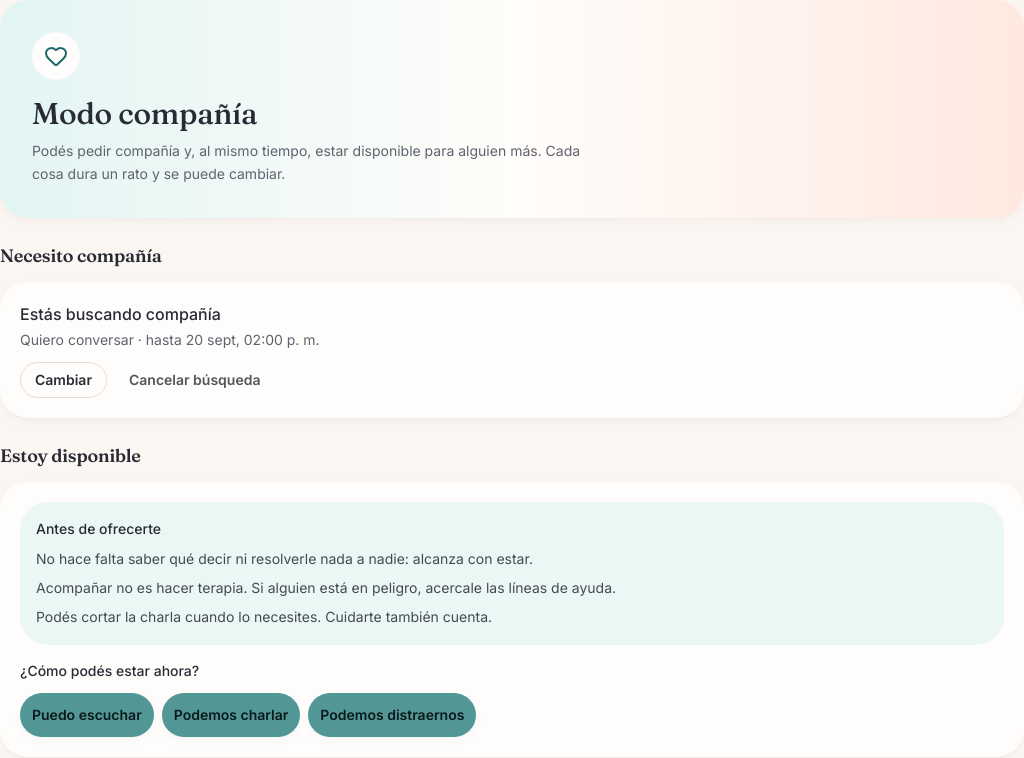
it: CompanionModePage › sets and cancels an offering without clearing a need
The image size is (1024, 758).
Expected: the text "Estás buscando compañía" is shown, [20, 304, 221, 324]
Step 1. Click the button "Podemos distraernos" → (392, 714), box [308, 692, 476, 736]
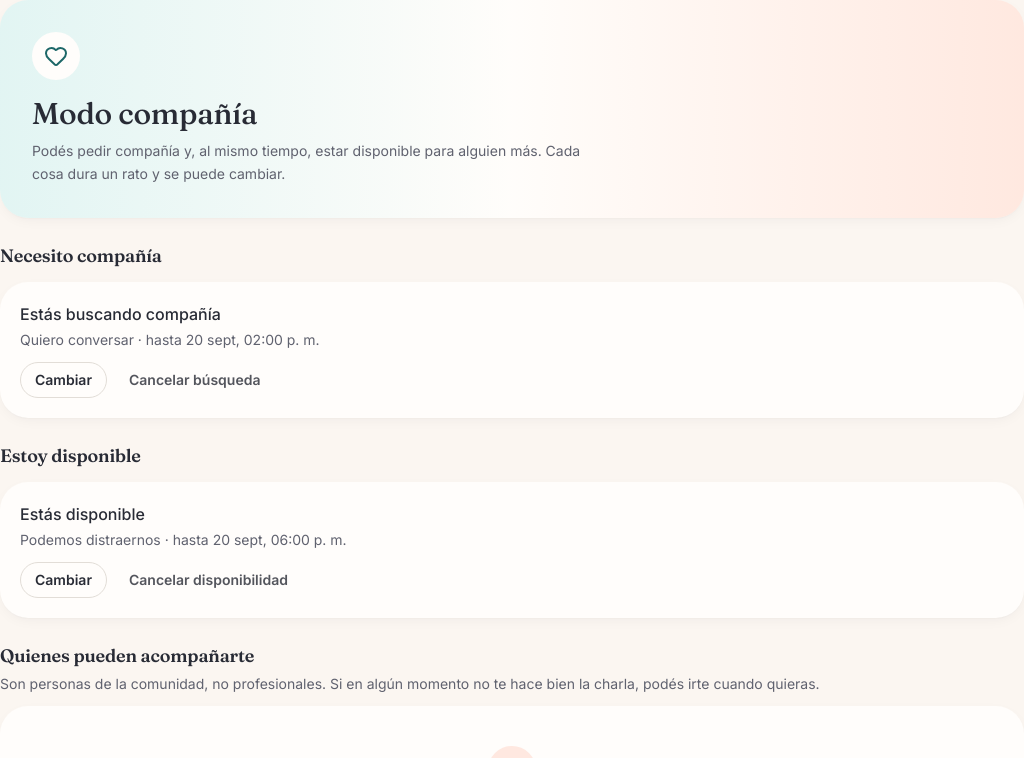
Expected: the text "Estás buscando compañía" is shown, [20, 304, 221, 324]
Expected: the text "Estás disponible" is shown, [20, 504, 145, 524]
Expected: the text "Podemos distraernos · hasta 20 sept, 06:00 p. m." is shown, [20, 530, 347, 548]
Step 2. Click the button "Cancelar disponibilidad" → (208, 580), box [115, 562, 302, 598]
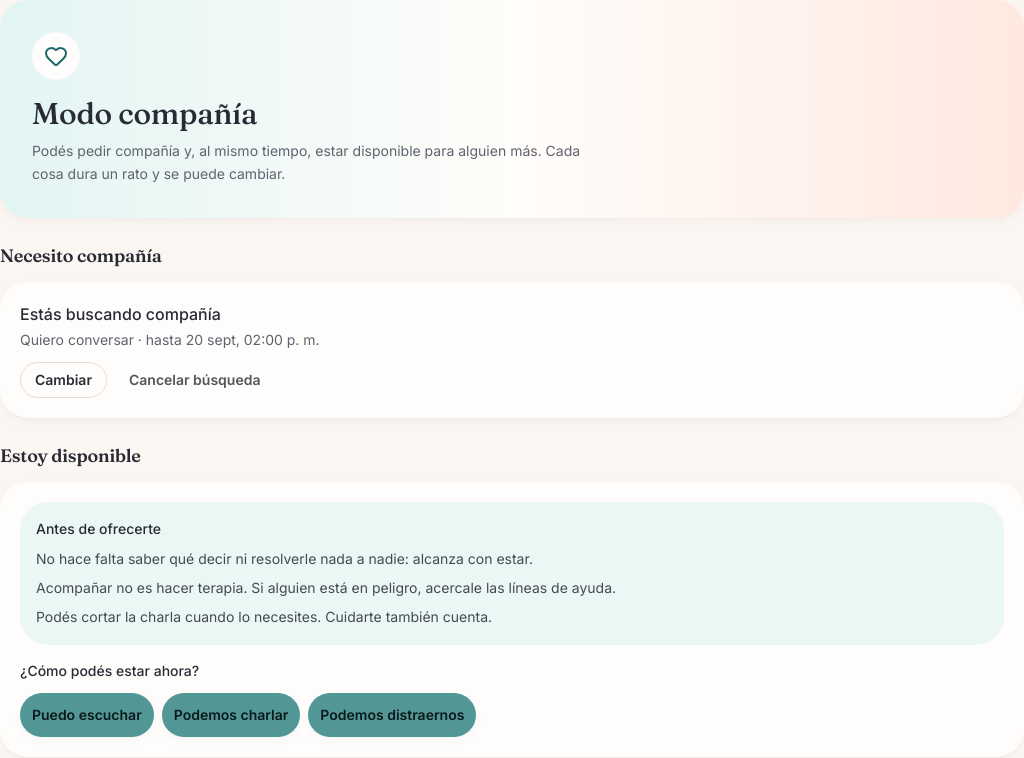
Expected: the text "Estás buscando compañía" is shown, [20, 304, 221, 324]
Expected: the text "Estás disponible" is gone
